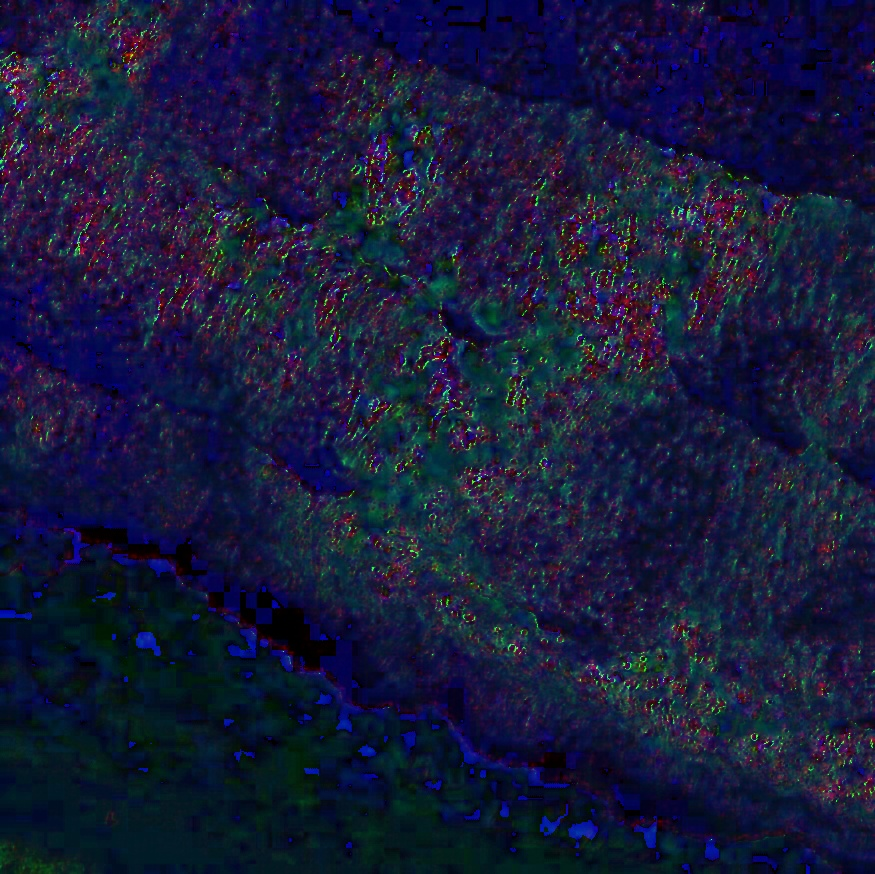rip_current: (286, 86, 775, 699)
